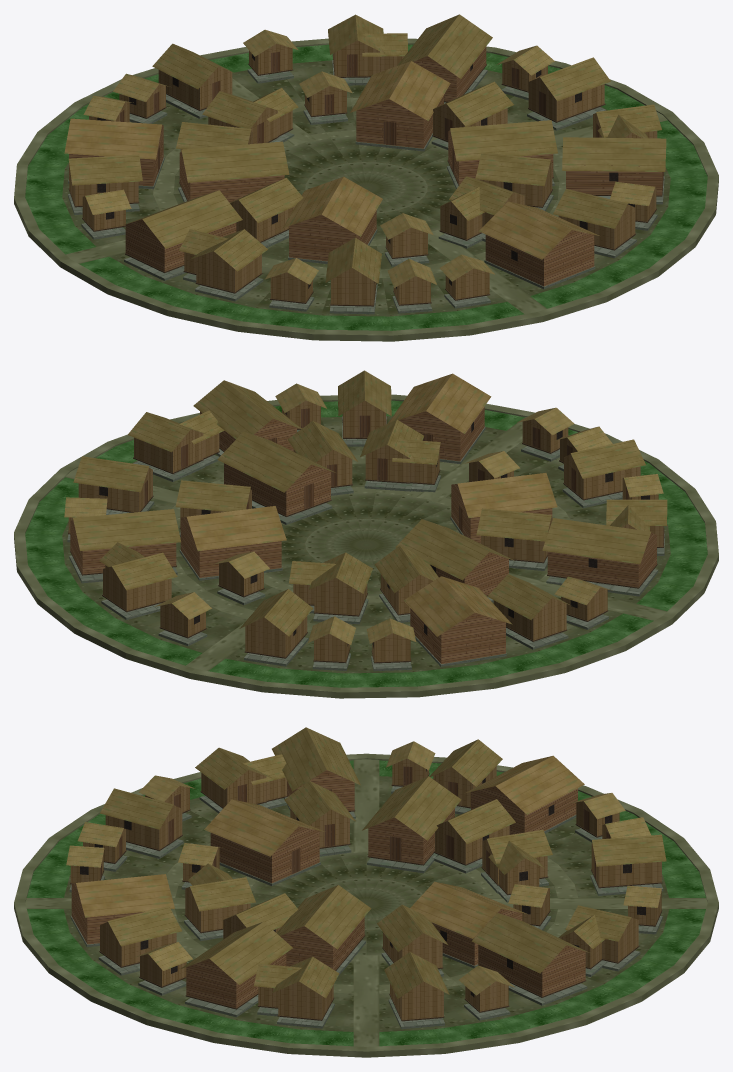
Rendered from ae_jungle_village_large_lod1.glb.
The picture shows the model from 3 angles, top to bottom: view 1: azimuth 30°, elevation 25°; view 2: azimuth 150°, elevation 25°; view 3: azimuth 270°, elevation 25°; orthographic projection.
Parts seen in each view (by area): view 1: ae_jungle_village_large_lod1; view 2: ae_jungle_village_large_lod1; view 3: ae_jungle_village_large_lod1.
Part boxes in pixels (<box>): ae_jungle_village_large_lod1: <box>14,14,718,341</box>; ae_jungle_village_large_lod1: <box>14,370,718,698</box>; ae_jungle_village_large_lod1: <box>14,727,718,1057</box>.
Size of the model in its own units: 1.9 by 0.1715 by 1.9.
Materials: 1 (1 with a texture image).
